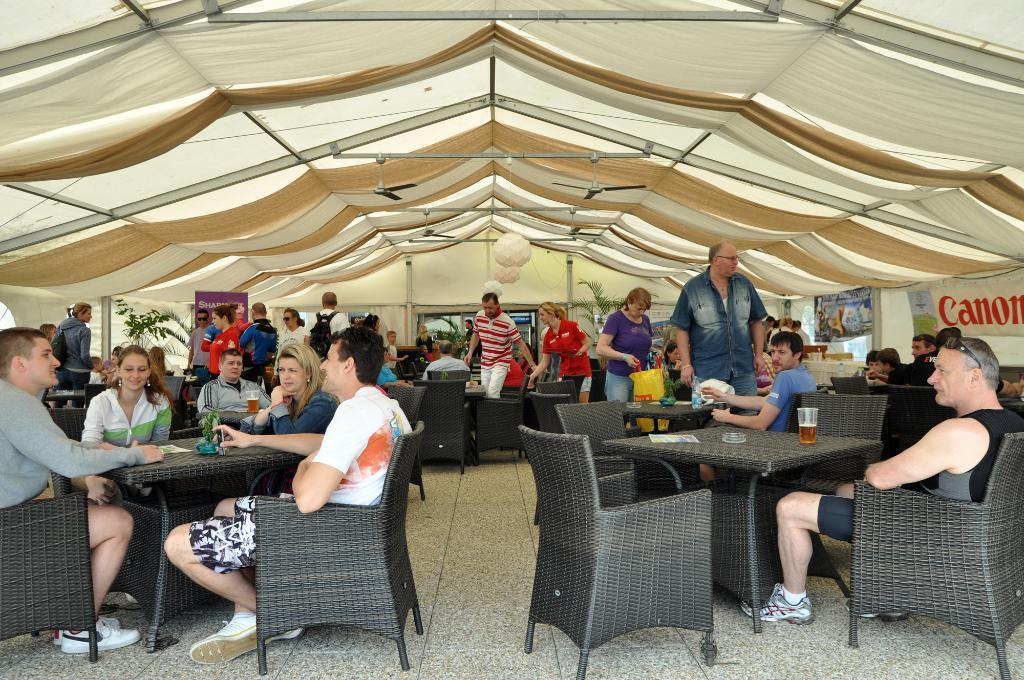Chair: (528, 421, 772, 661), (243, 416, 431, 674), (848, 430, 1022, 679), (0, 485, 97, 663), (799, 391, 888, 498), (554, 396, 643, 494), (415, 378, 477, 479), (477, 369, 527, 464), (529, 391, 571, 429), (49, 406, 87, 442), (541, 376, 579, 397), (164, 376, 186, 411), (82, 385, 111, 410), (829, 373, 867, 385)
